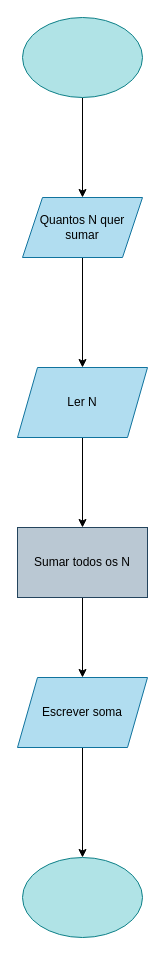
Image size: 165x955. Some labels were removed from this diagram. Each missing label, with the centre of its shape:
Fim: [82,897]
Início: [82,57]
